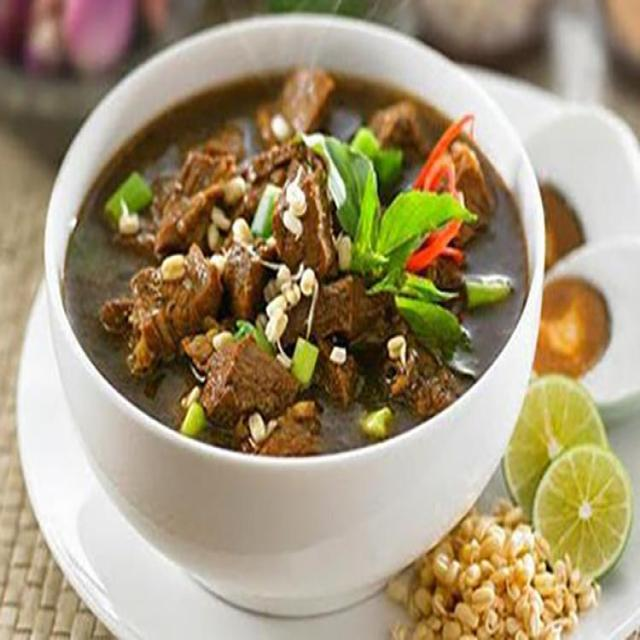Rawon: (68, 69, 536, 452)
